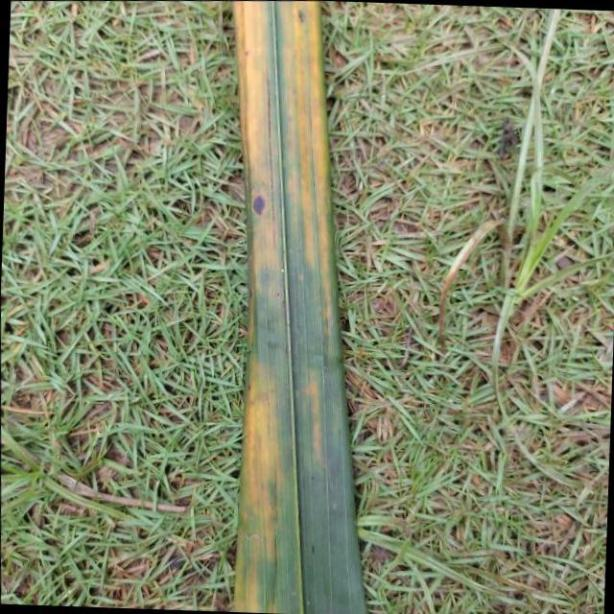Megnesium: (228, 0, 367, 614)
